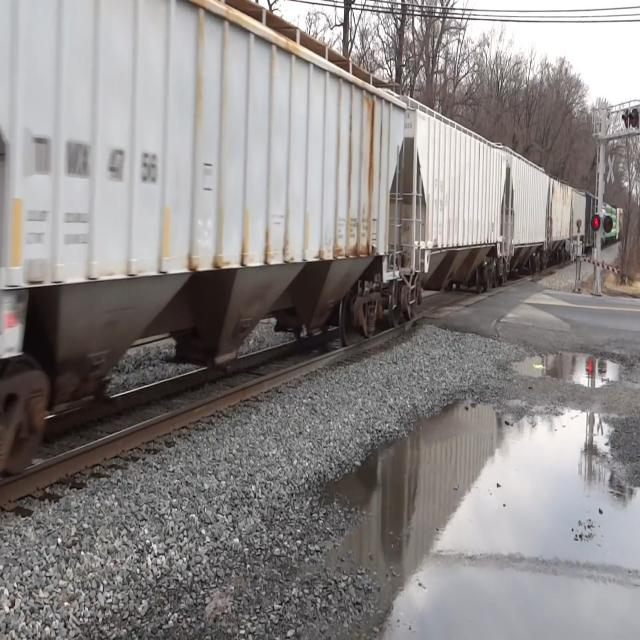hopper: (0, 0, 411, 442), (405, 86, 510, 314)
